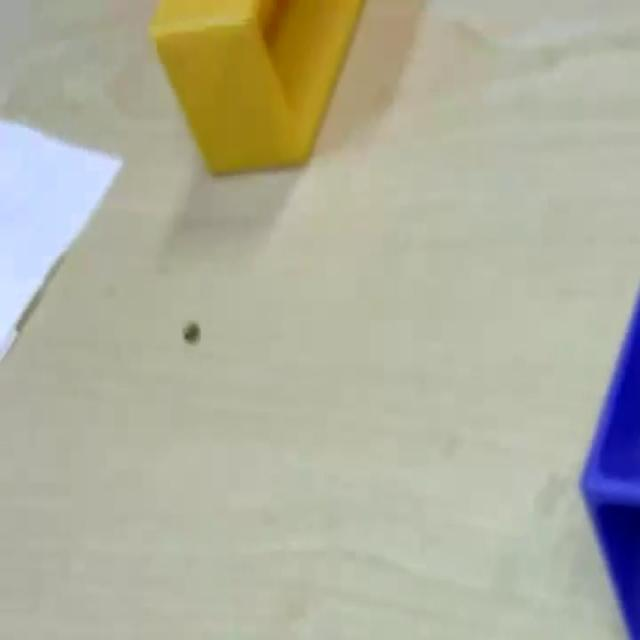blue_block: (578, 281, 638, 636)
yellow_block: (147, 0, 365, 176)
